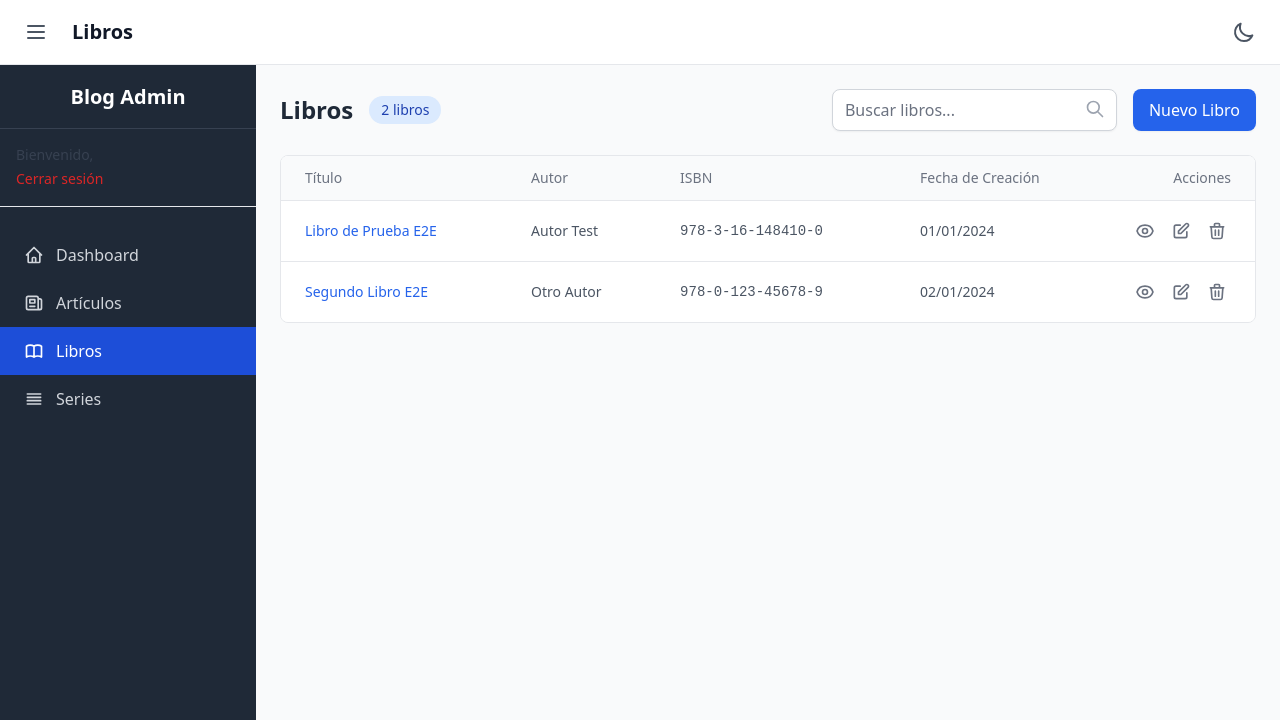
it: Gestión de Libros › Debería permitir eliminar un libro
Note: Hacemos clic en el botón de eliminar del primer libro
Click the button with test id "delete-book-button" in the row of "Libro de Prueba E2E" at (1217, 231), box [1203,217,1231,245]
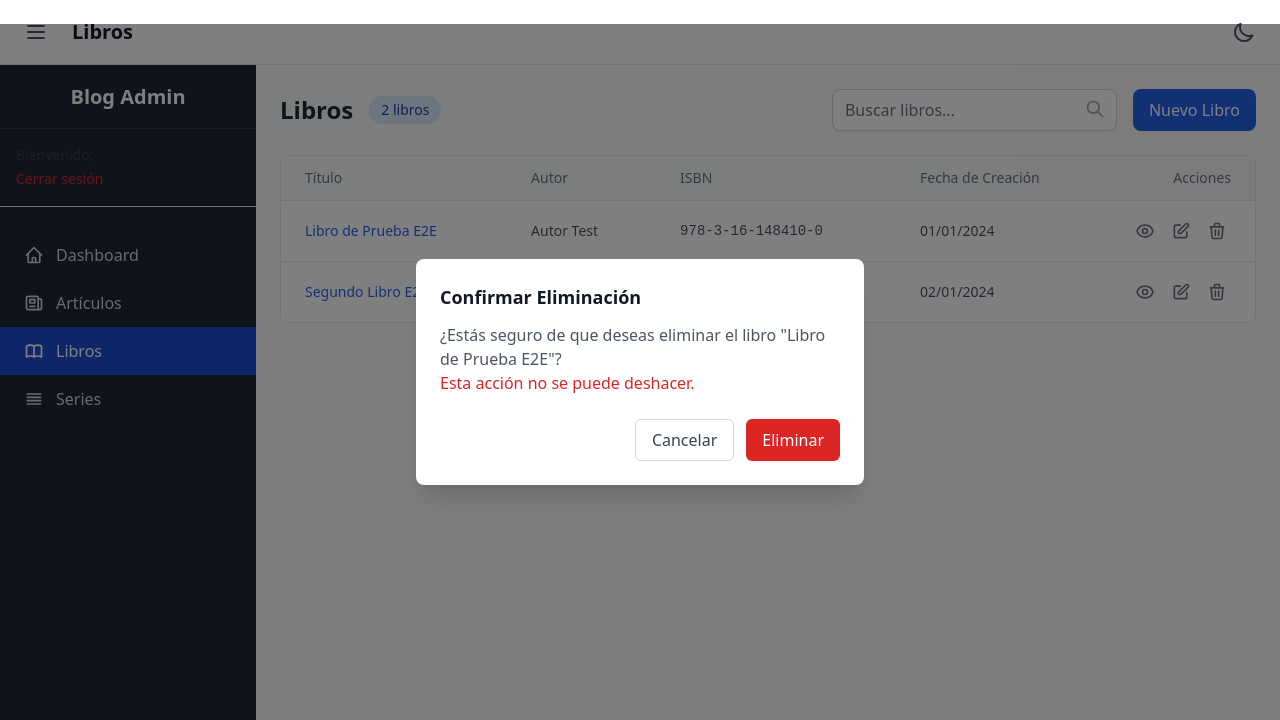
Check: the element with class "modal-backdrop" is shown
Click the button with class "confirm-button" at (793, 440), box [746,419,840,461]
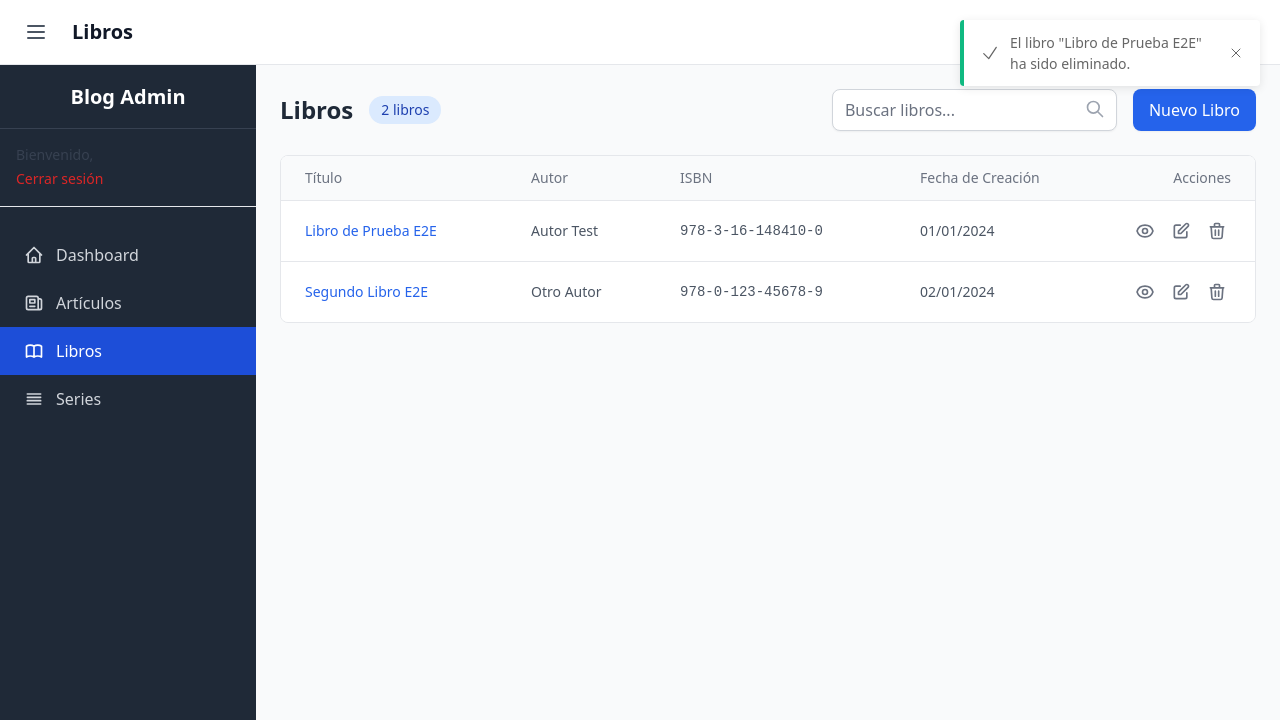
Check: the element with test id "notification-success" is shown, box [960,20,1260,86]
